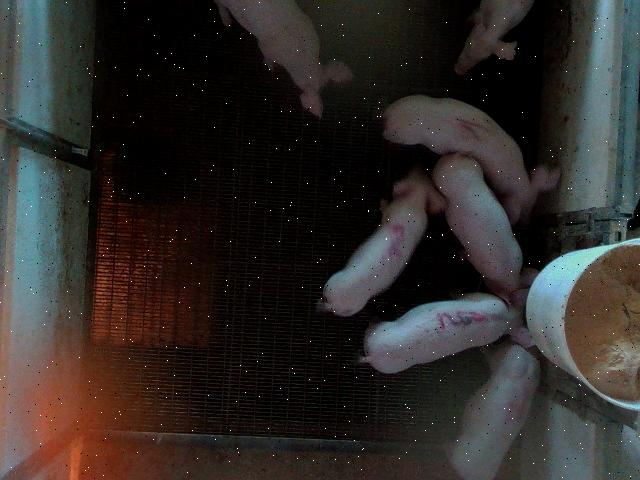pig-1: (384, 95, 560, 225)
pig-3: (359, 290, 532, 373)
pig-4: (449, 341, 540, 478)
pig-5: (318, 165, 445, 316)
